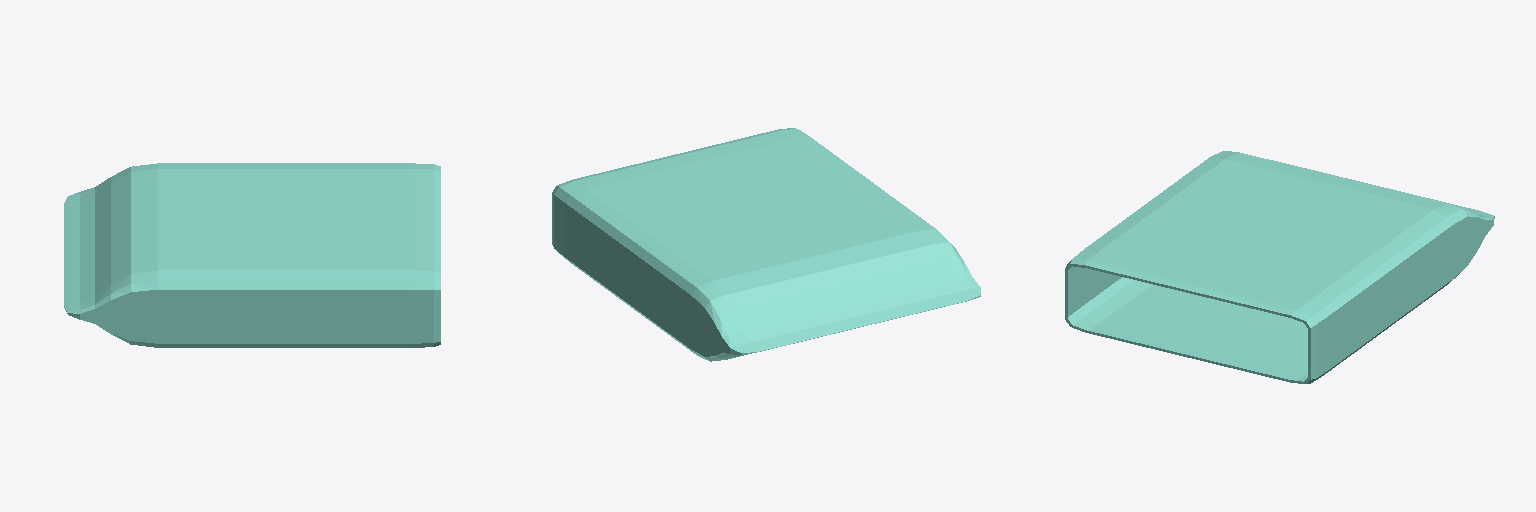
Rendered from Seed Packet.obj.
3 views of the same model, side by side, from view 1: azimuth 30°, elevation 25°; view 2: azimuth 150°, elevation 25°; view 3: azimuth 270°, elevation 25° (orthographic).
Parts seen in each view (by area): view 1: Box001; view 2: Box001; view 3: Box001.
Boxes of the visible parts, x1=… form: Box001: x1=64, y1=163, x2=440, y2=347; Box001: x1=552, y1=128, x2=980, y2=361; Box001: x1=1065, y1=151, x2=1494, y2=383.
Bounding box in the file's own units: 82.38 × 14.17 × 76.28.